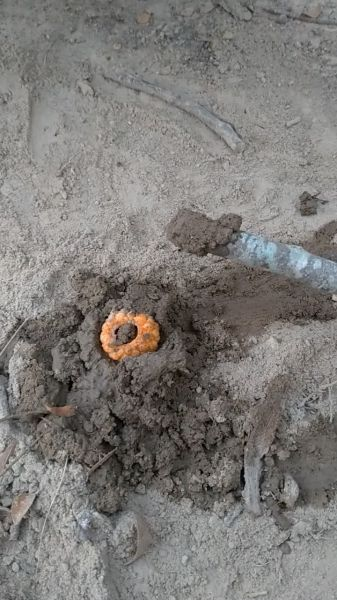eggs: (91, 304, 167, 362)
